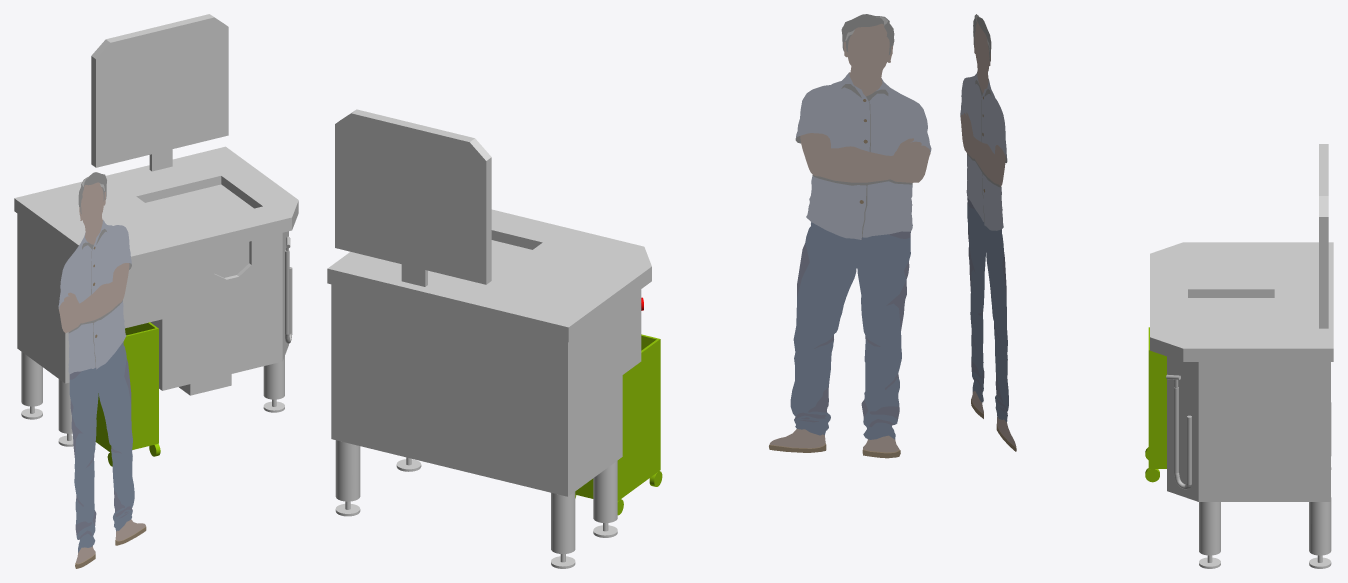
File: bio-grinder.glb
3 views of the same model, side by side, from view 1: azimuth 30°, elevation 25°; view 2: azimuth 150°, elevation 25°; view 3: azimuth 270°, elevation 25° (orthographic). The views are drawn at different scales.
Parts seen in each view (by area): view 1: 40893, Niraj, 34123, 47954; view 2: 40893, Niraj, 34123; view 3: 40893, Niraj, 34123, 47954.
Boxes of the visible parts, bbox=[...] form: 40893: bbox=[14, 14, 298, 446]; Niraj: bbox=[58, 172, 146, 568]; 34123: bbox=[95, 322, 160, 466]; 47954: bbox=[285, 236, 292, 343]; 40893: bbox=[327, 109, 651, 568]; Niraj: bbox=[769, 14, 931, 458]; 34123: bbox=[575, 334, 662, 515]; 40893: bbox=[1150, 144, 1333, 568]; Niraj: bbox=[960, 14, 1016, 451]; 34123: bbox=[1145, 327, 1166, 482]; 47954: bbox=[1166, 374, 1191, 489].
Bounding box in the file's own units: 1.68 × 1.79 × 1.51.
